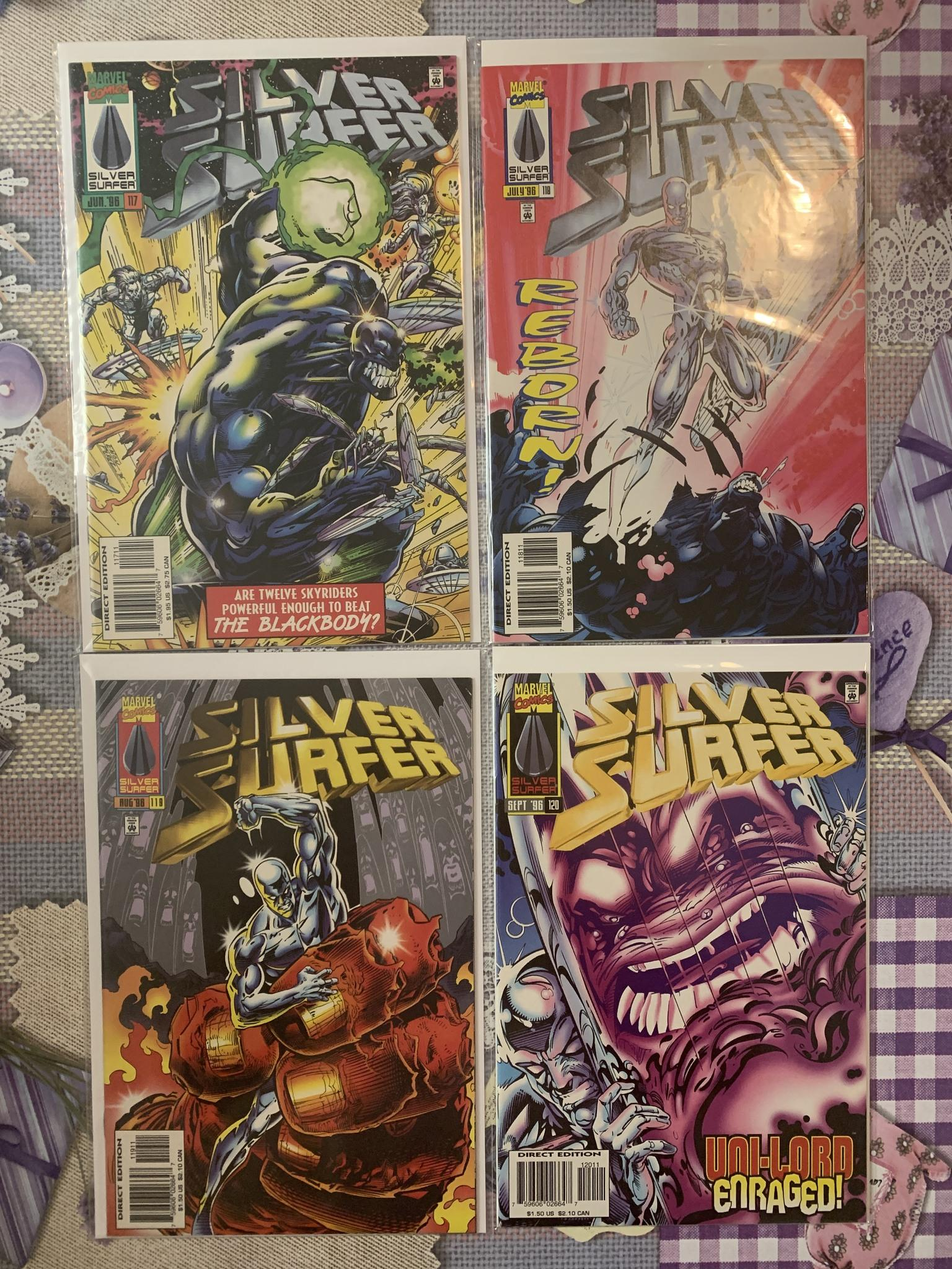comic: (61, 34, 480, 652), (481, 37, 870, 642), (83, 650, 482, 1236), (494, 644, 877, 1226)
